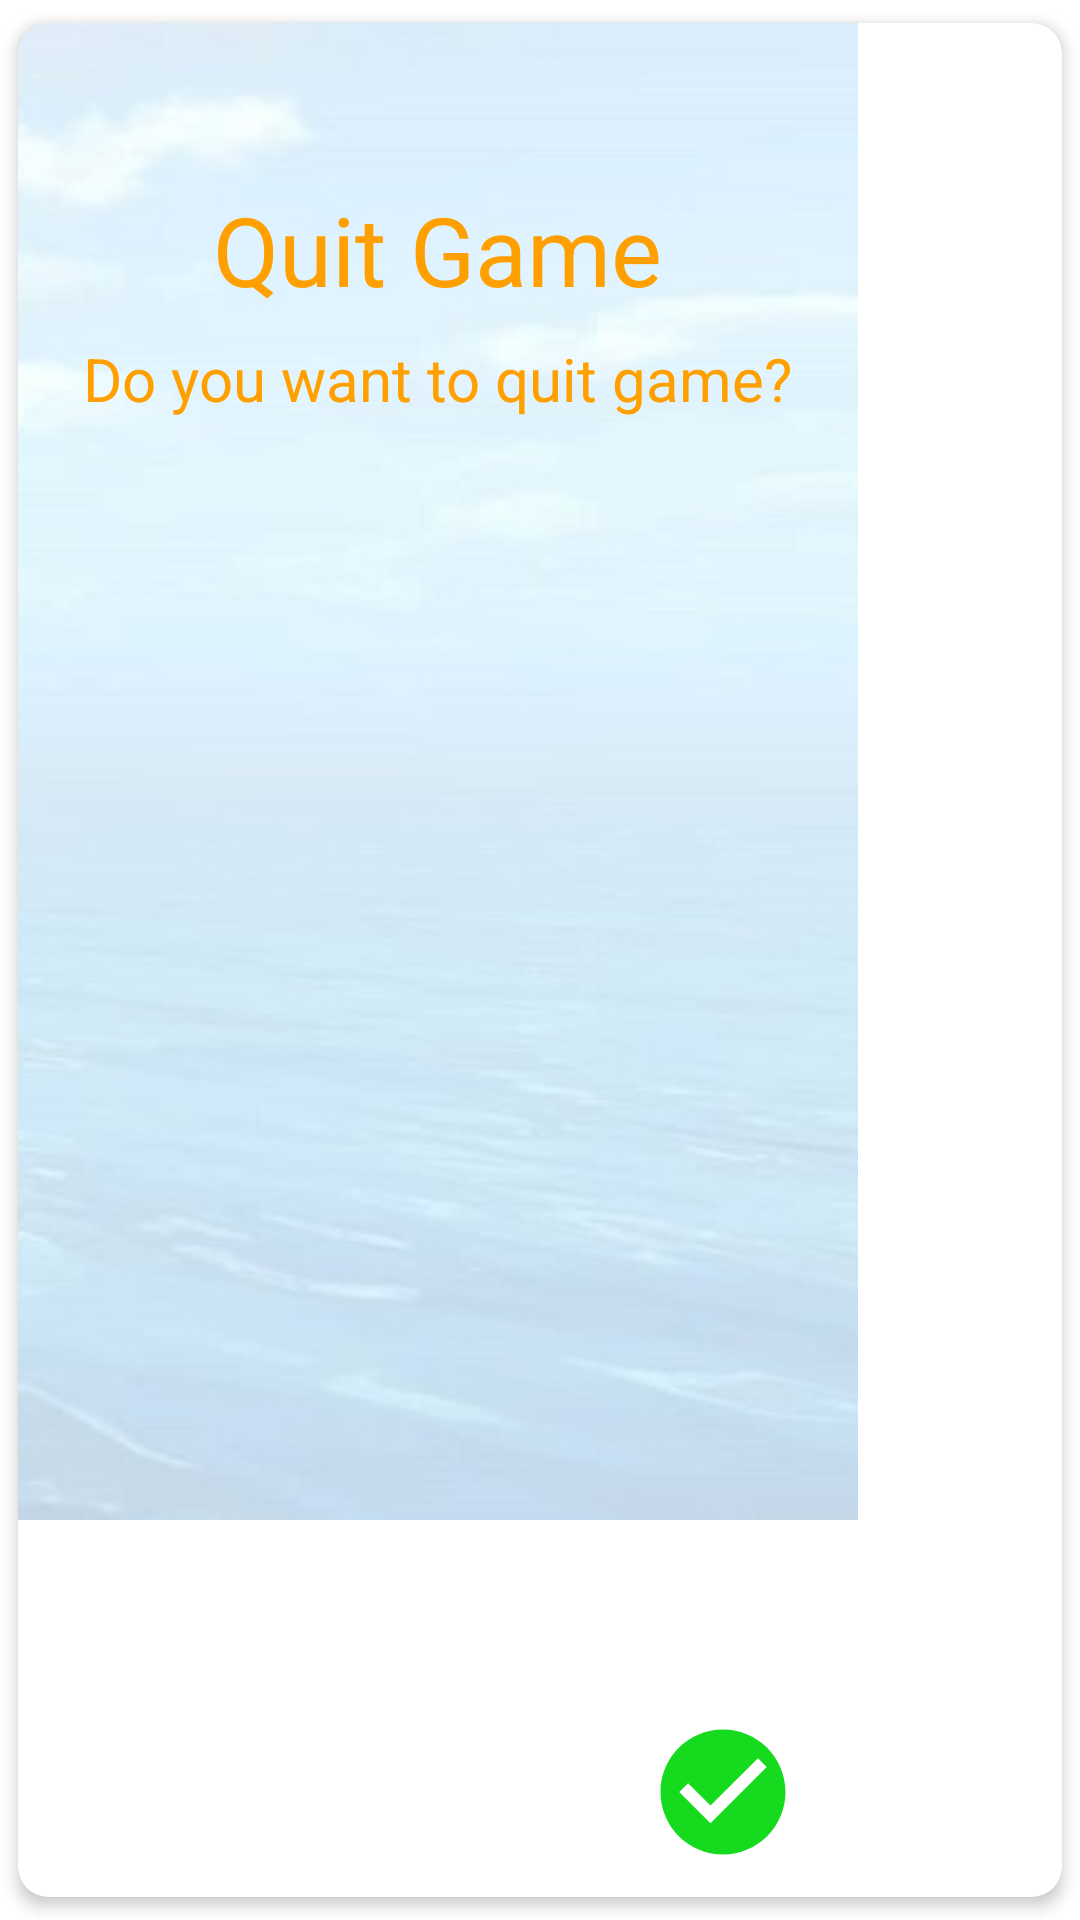

Point at icon controls on the screen. Image size 1080w x 1920h, points as [x,y].
check circle: [723,1792]
